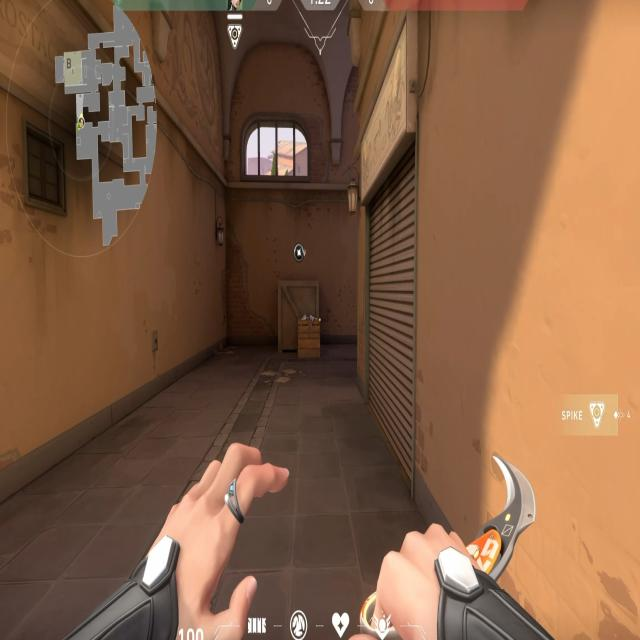B_Main_Wallbang: (254, 243, 313, 349)
Throwables: (235, 107, 314, 185)
